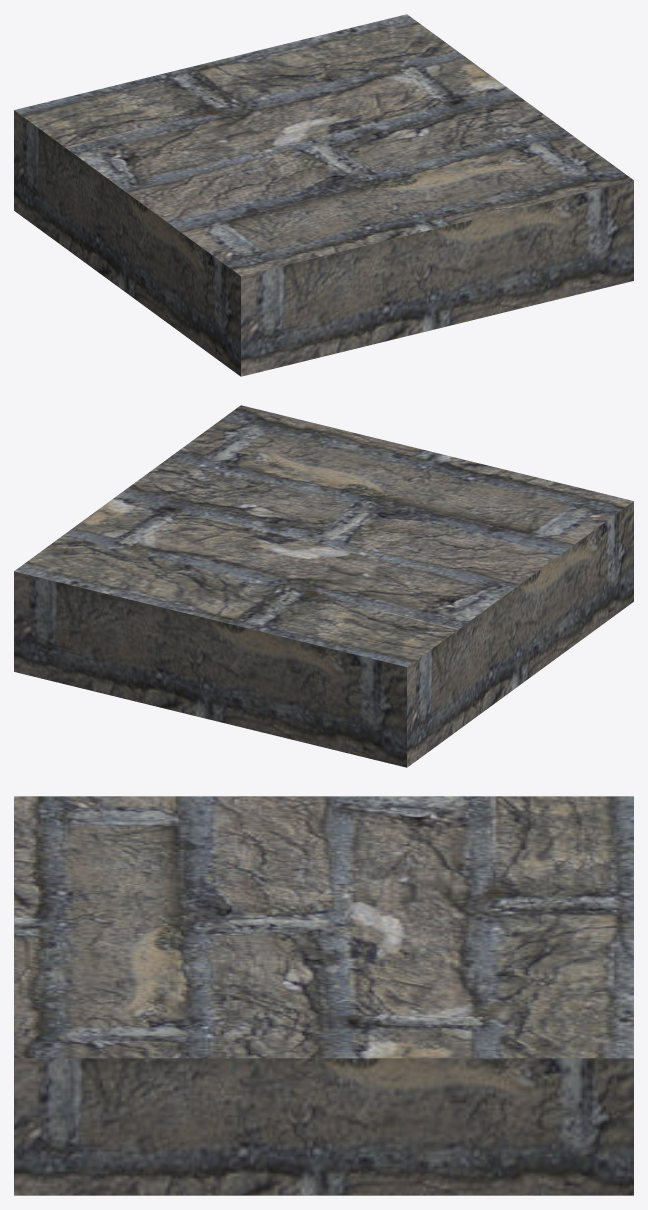
Rendered from floor_brick.glb.
The picture shows the model from 3 angles, top to bottom: view 1: azimuth 30°, elevation 25°; view 2: azimuth 150°, elevation 25°; view 3: azimuth 270°, elevation 25°; orthographic projection. The views are drawn at different scales.
Parts seen in each view (by area): view 1: floor; view 2: floor; view 3: floor.
Boxes of the visible parts, x1,y1,x2,y2 form: floor: [14, 14, 633, 376]; floor: [14, 405, 633, 767]; floor: [14, 796, 633, 1195].
Bounding box in the file's own units: 0.9 × 0.22 × 0.9.
1 material, 1 textured.
